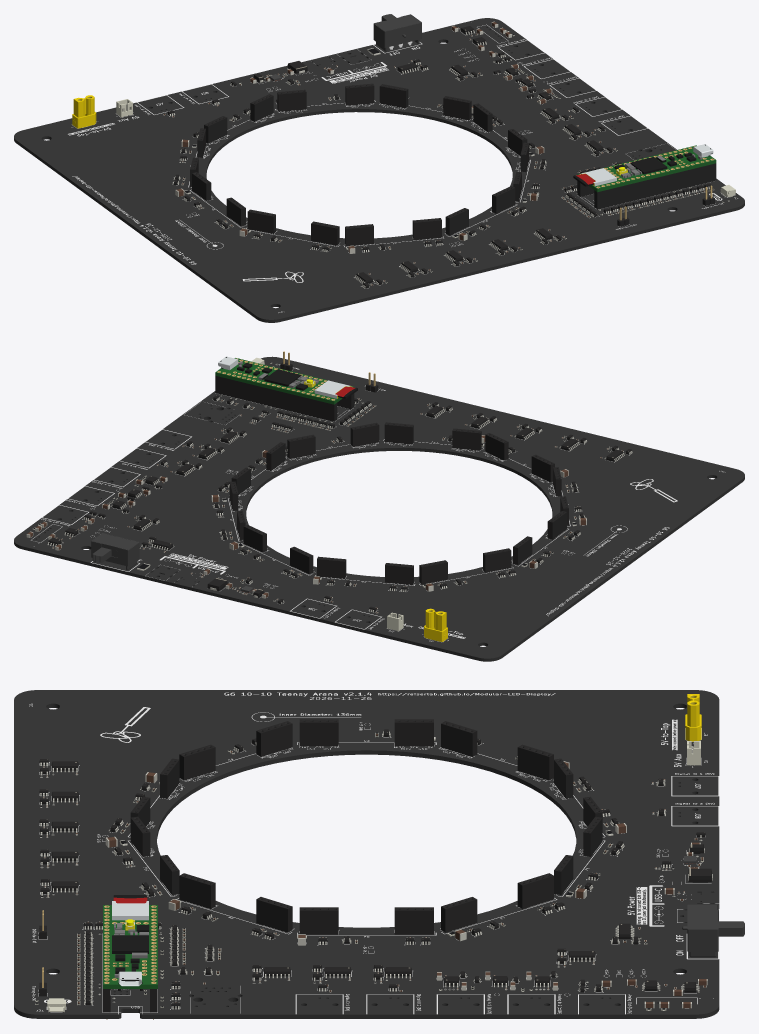
File: arena_10-10_v2r1-v2.1.4.glb
The picture shows the model from 3 angles, top to bottom: view 1: azimuth 30°, elevation 25°; view 2: azimuth 150°, elevation 25°; view 3: azimuth 270°, elevation 25°; orthographic projection. The views are drawn at different scales.
Visible parts, largest first — view 1: =>[0:1:1:90], =>[0:1:1:21] (×8), =>[0:1:1:88], =>[0:1:1:76], =>[0:1:1:13], =>[0:1:1:74], XT30_Female001; view 2: =>[0:1:1:90], =>[0:1:1:21] (×8), =>[0:1:1:88], =>[0:1:1:76], =>[0:1:1:13], =>[0:1:1:74], XT30_Female001; view 3: =>[0:1:1:90], =>[0:1:1:21] (×18), =>[0:1:1:88], =>[0:1:1:76], =>[0:1:1:74], XT30_Female001.
Part boxes in pixels (left/top/right/bottom): =>[0:1:1:90]: left=14, top=18, right=744, bottom=322; =>[0:1:1:21] (×8): left=247, top=83, right=471, bottom=246; =>[0:1:1:88]: left=68, top=24, right=737, bottom=312; =>[0:1:1:76]: left=573, top=144, right=716, bottom=192; =>[0:1:1:13]: left=594, top=163, right=716, bottom=209; =>[0:1:1:74]: left=373, top=14, right=421, bottom=51; XT30_Female001: left=72, top=95, right=96, bottom=128; =>[0:1:1:90]: left=14, top=356, right=744, bottom=661; =>[0:1:1:21] (×8): left=287, top=422, right=511, bottom=584; =>[0:1:1:88]: left=31, top=364, right=725, bottom=642; =>[0:1:1:76]: left=215, top=356, right=357, bottom=404; =>[0:1:1:13]: left=215, top=375, right=337, bottom=421; =>[0:1:1:74]: left=91, top=533, right=139, bottom=570; XT30_Female001: left=424, top=608, right=447, bottom=641; =>[0:1:1:90]: left=14, top=690, right=719, bottom=1018; =>[0:1:1:21] (×18): left=130, top=719, right=602, bottom=934; =>[0:1:1:88]: left=29, top=692, right=719, bottom=1014; =>[0:1:1:76]: left=103, top=895, right=157, bottom=990; =>[0:1:1:74]: left=682, top=904, right=744, bottom=957; XT30_Female001: left=685, top=694, right=701, bottom=741.
Size of the model in its own units: 0.2491 by 0.0168 by 0.2369.
